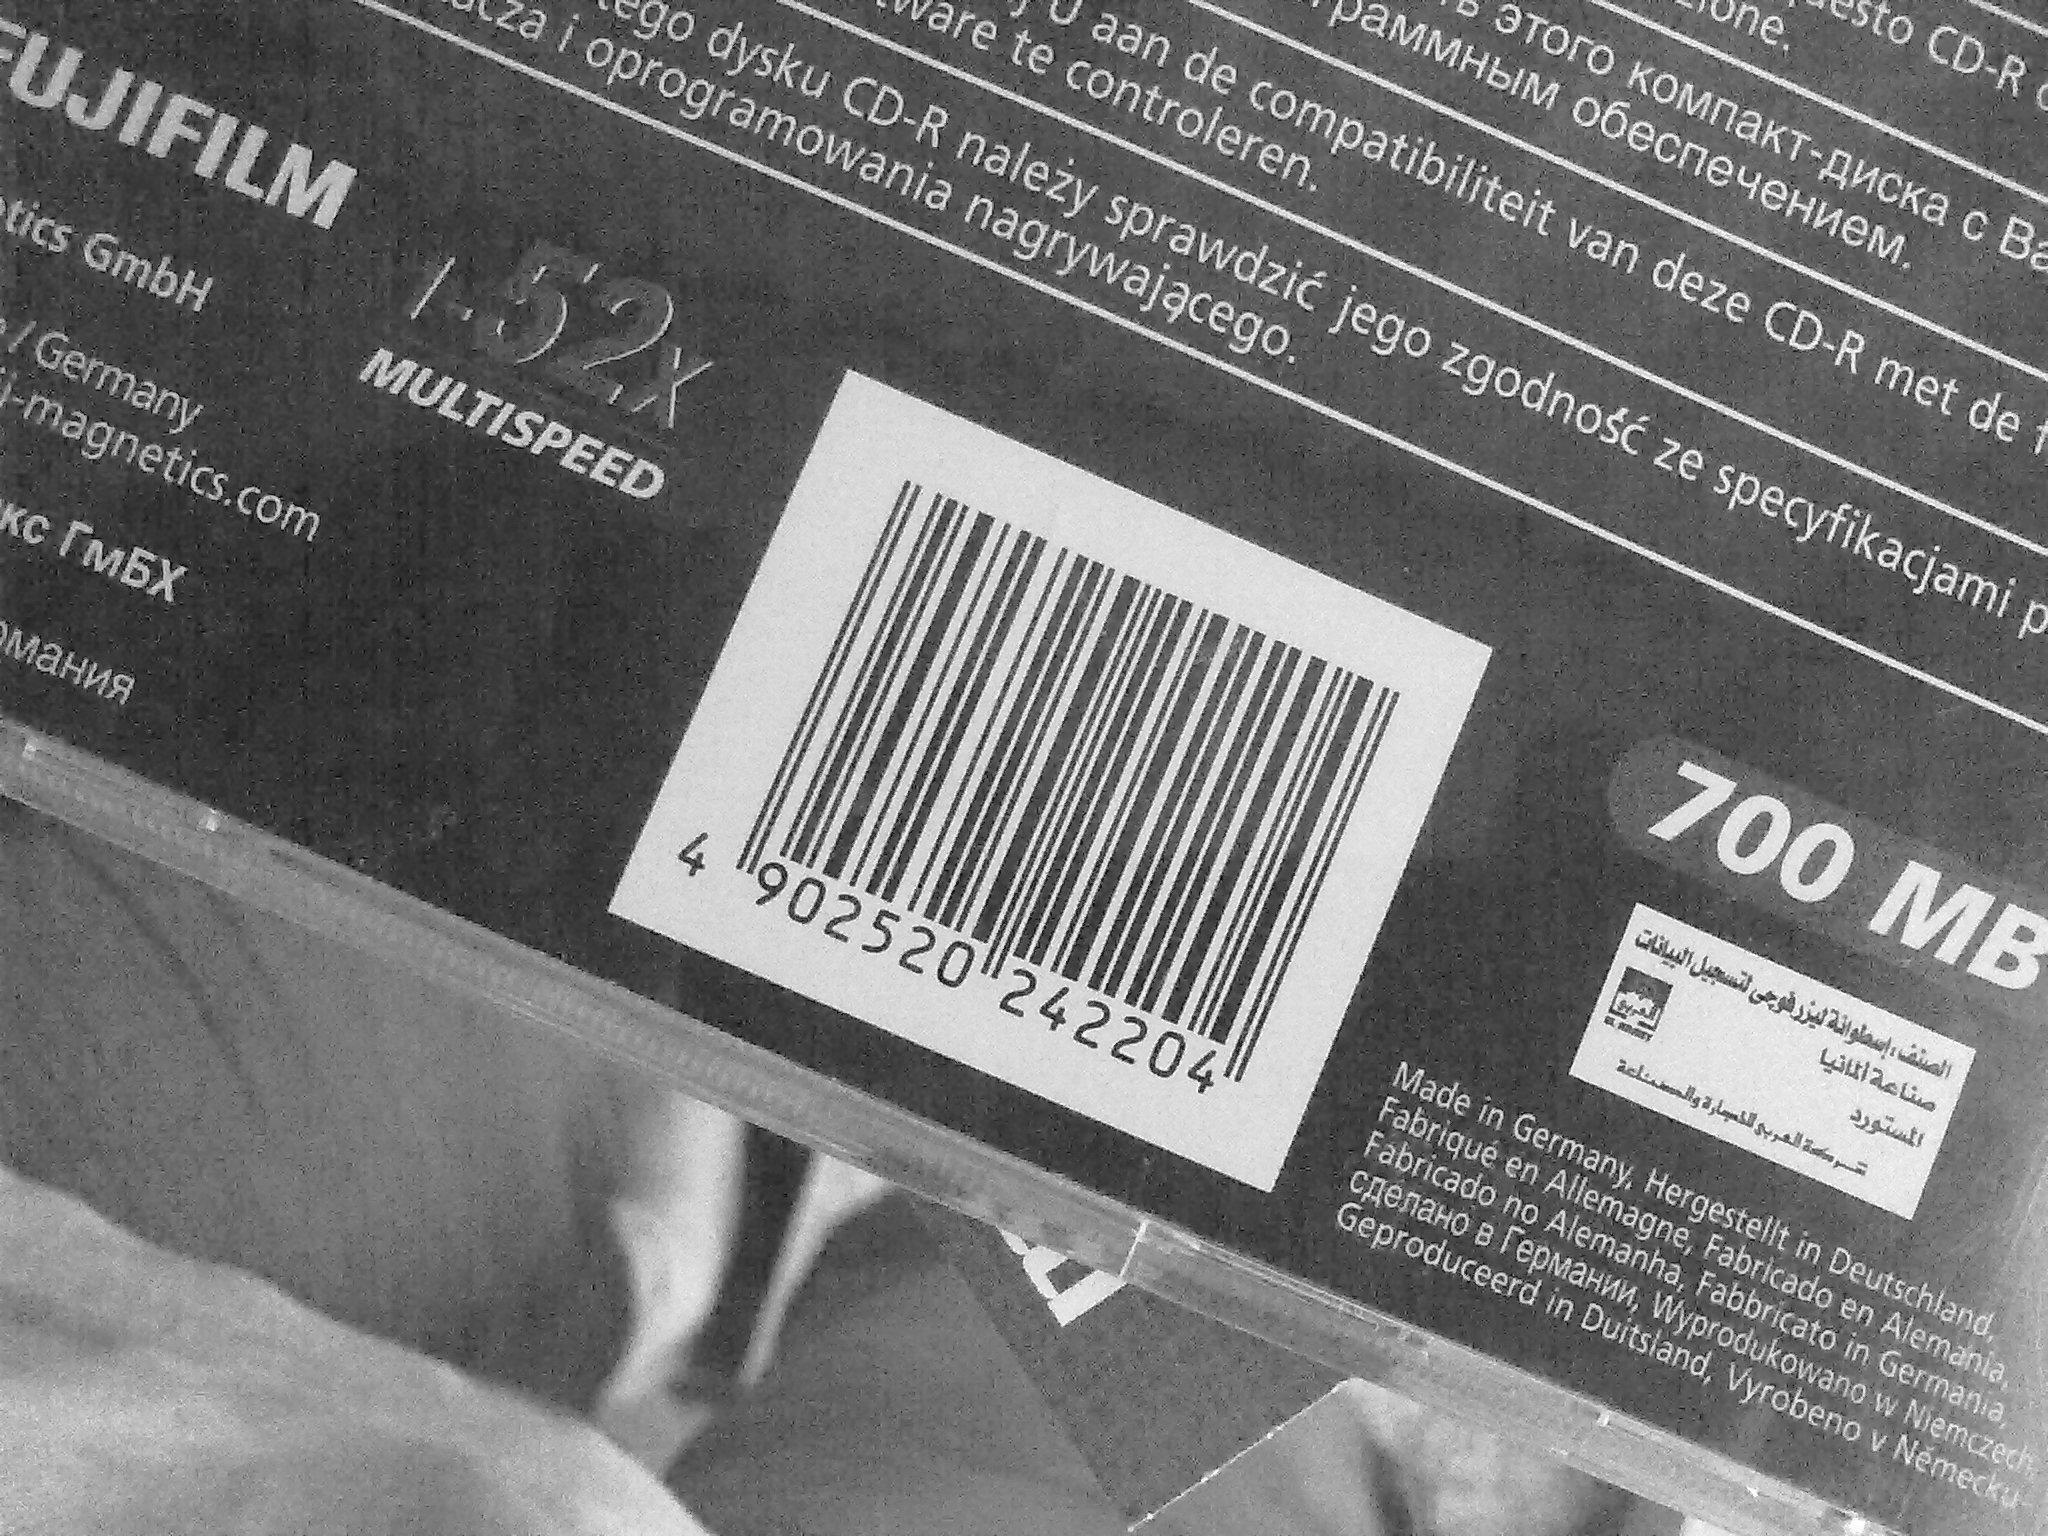Barcode: (735, 399, 1409, 1147)
